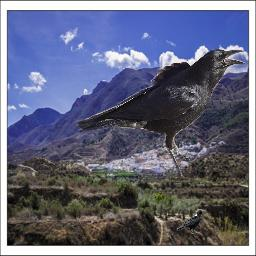Crow: (76, 48, 246, 180), (176, 209, 205, 234)
